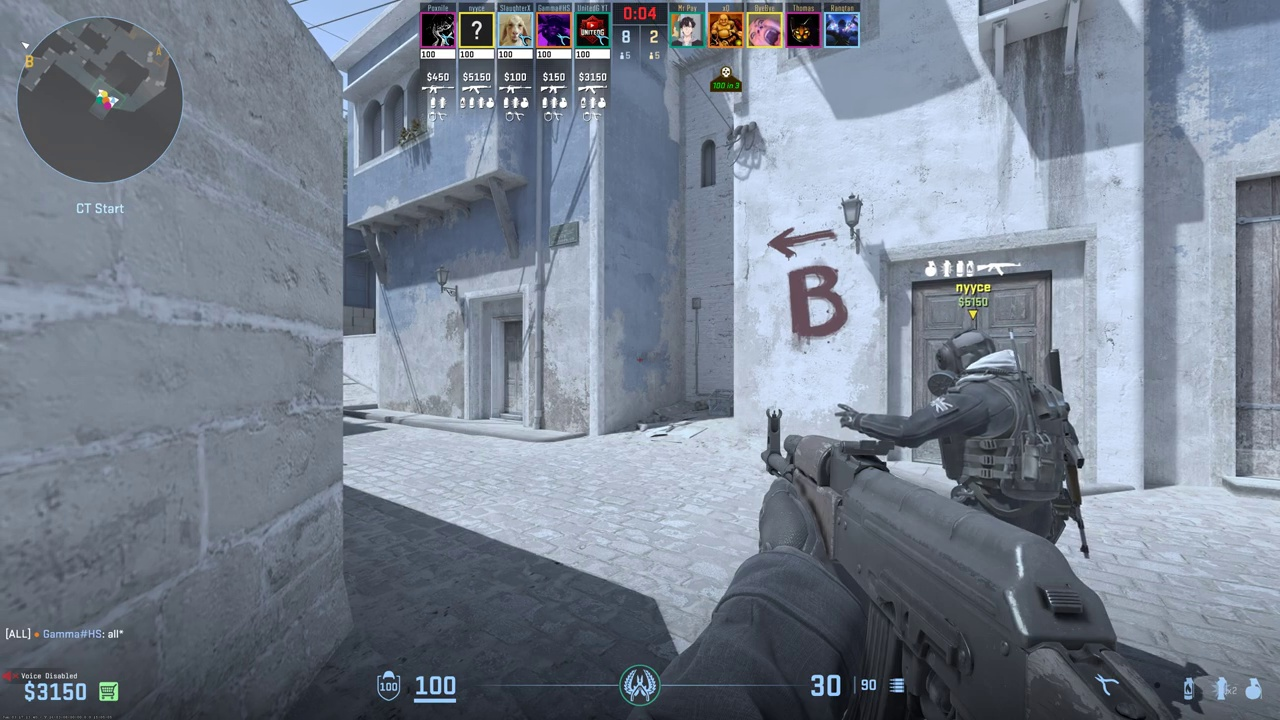CT: (928, 327, 1079, 553)
